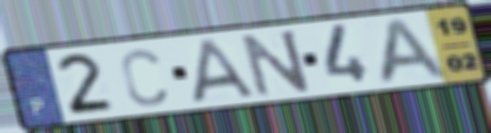2: (53, 51, 118, 116)
4: (323, 21, 377, 90)
A: (375, 16, 452, 88), (190, 36, 257, 106)
C: (118, 47, 170, 109)
N: (238, 27, 314, 99)
